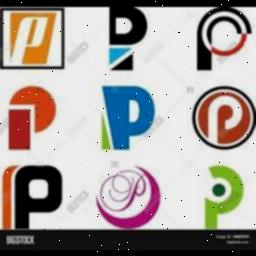p: (1, 159, 67, 231), (98, 81, 158, 153), (192, 6, 254, 74), (196, 161, 250, 229), (108, 6, 150, 74), (10, 12, 54, 64), (204, 92, 246, 146)
